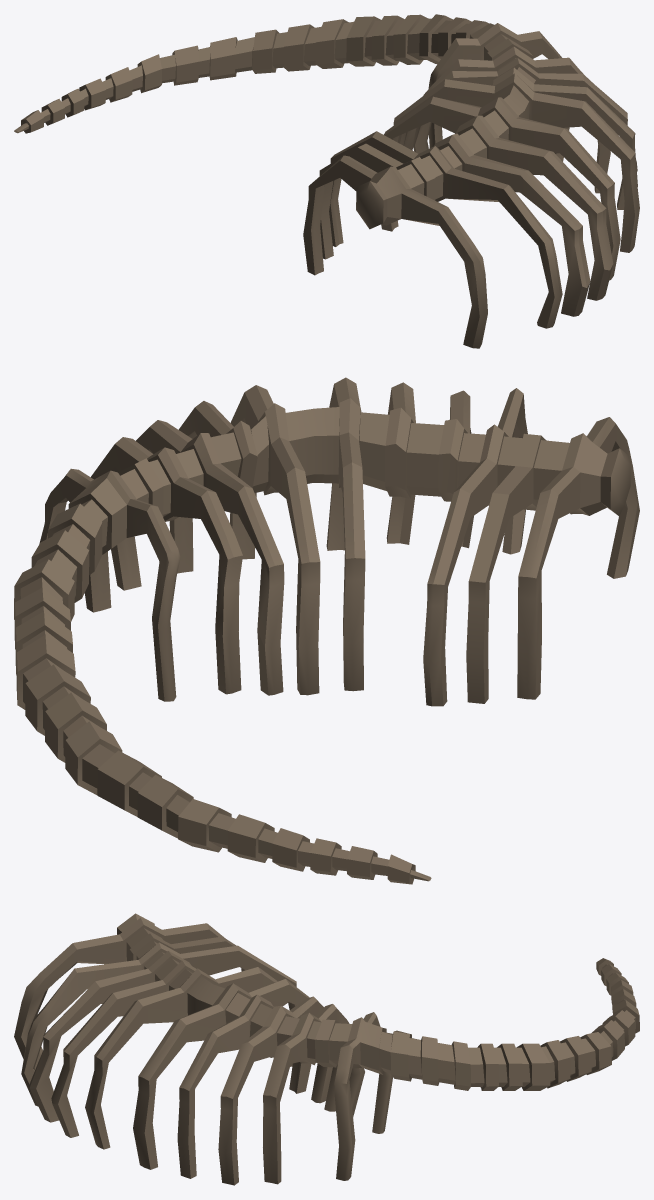
File: final_ribcage_albus.fbx
The picture shows the model from 3 angles, top to bottom: view 1: azimuth 30°, elevation 25°; view 2: azimuth 150°, elevation 25°; view 3: azimuth 270°, elevation 25°; orthographic projection. The views are drawn at different scales.
Visible parts, largest first — view 1: pCube4; view 2: pCube4; view 3: pCube4.
Part boxes in pixels (bbox=[...]): pCube4: bbox=[14, 14, 639, 348]; pCube4: bbox=[14, 377, 639, 884]; pCube4: bbox=[14, 913, 639, 1185].
Size of the model in its own units: 4.64 by 1.67 by 6.2.
